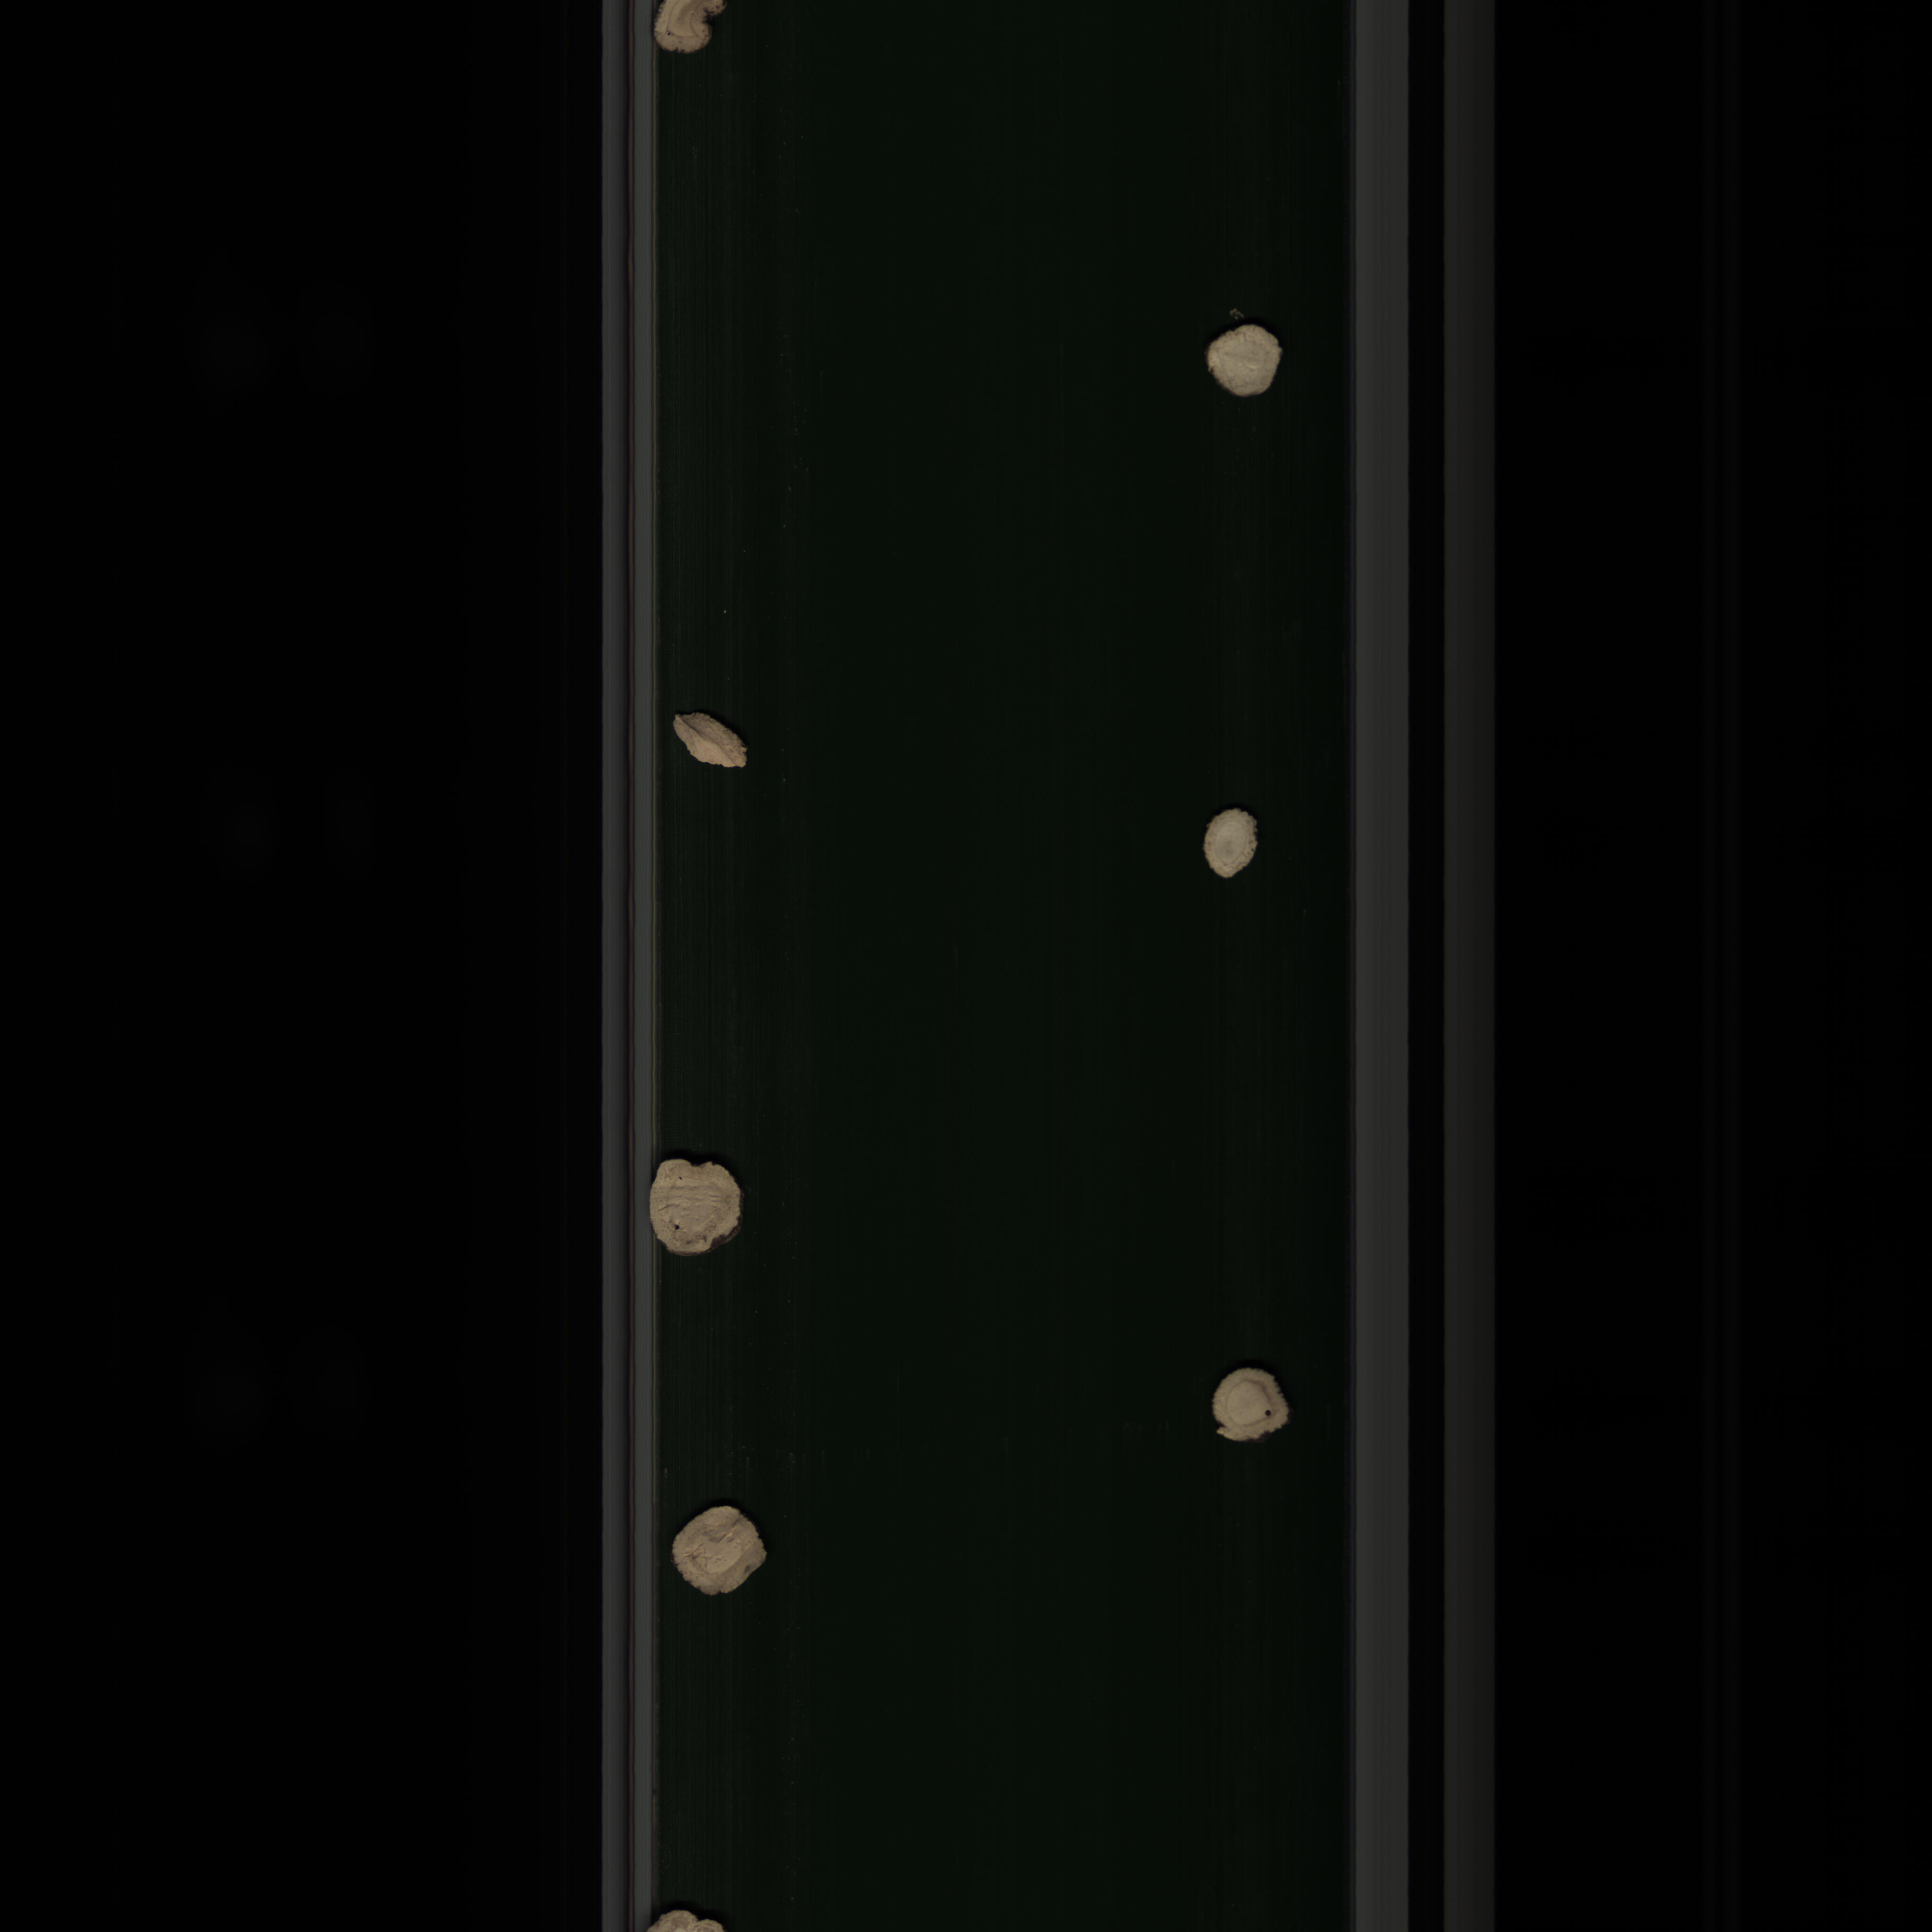debris: (663, 706, 761, 777)
hole: (1208, 1359, 1297, 1454)
